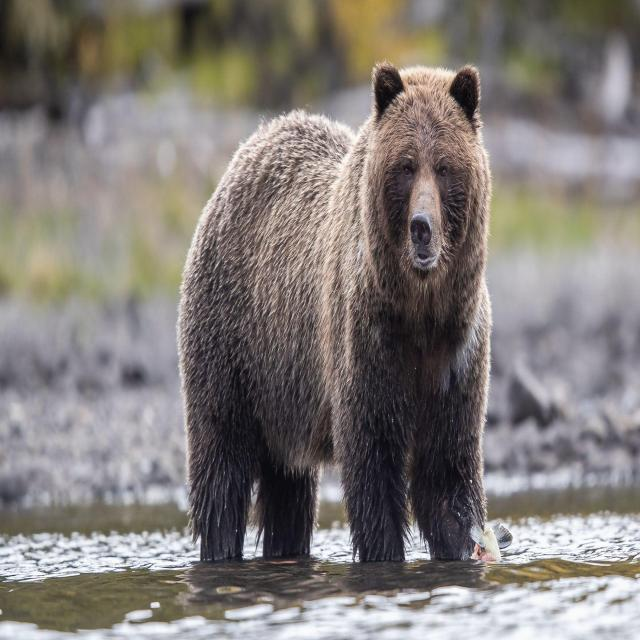Bear: (177, 64, 494, 577)
